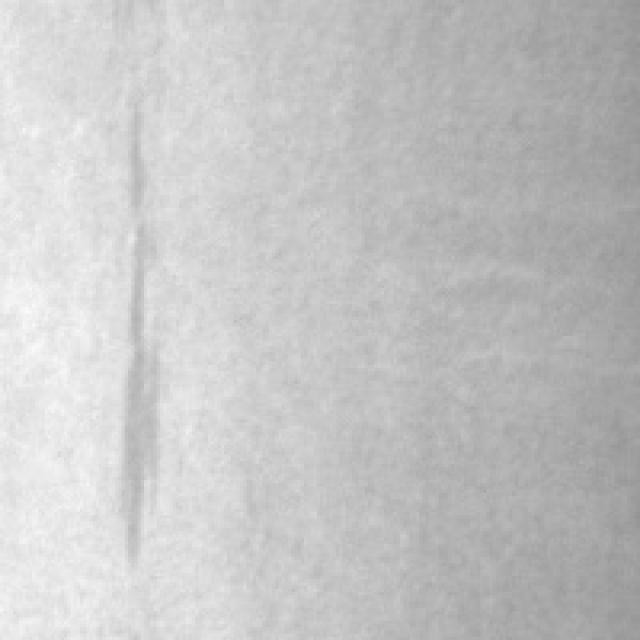inclusion: (96, 70, 182, 586)
